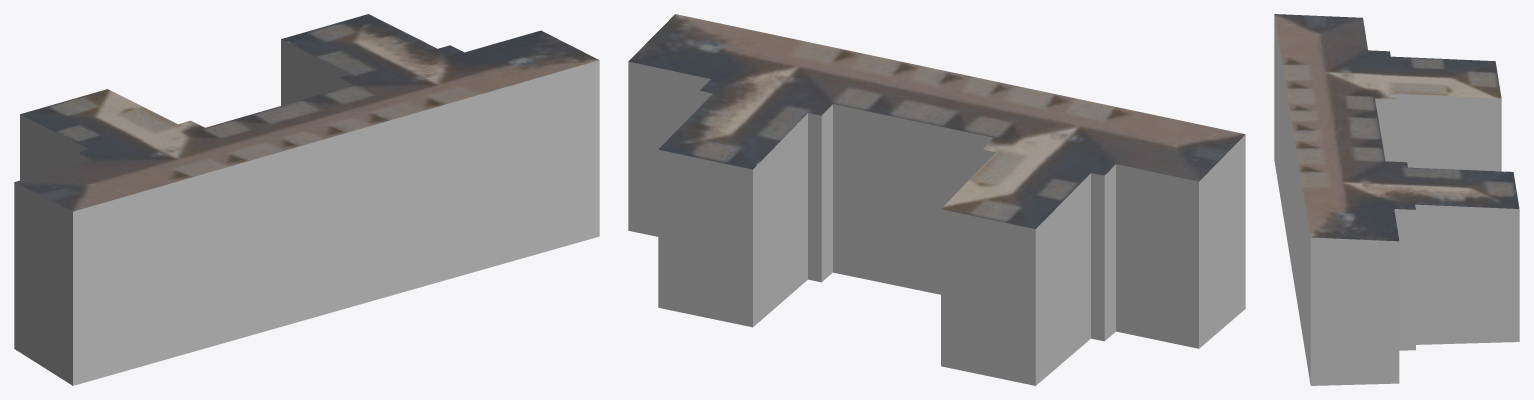
The model's file is DEBW_0010007Tx73.gltf.
The picture shows the model from 3 angles, left to right: view 1: azimuth 30°, elevation 25°; view 2: azimuth 150°, elevation 25°; view 3: azimuth 270°, elevation 25°; orthographic projection. The views are drawn at different scales.
Parts seen in each view (by area): view 1: Z_UP; view 2: Z_UP; view 3: Z_UP.
Boxes of the visible parts, x1,y1,x2,y2 form: Z_UP: (14, 14, 599, 385); Z_UP: (628, 14, 1245, 385); Z_UP: (1274, 14, 1519, 385).
Size of the model in its own units: 53.16 by 16.17 by 24.18.
Materials: 2 (1 with a texture image).
